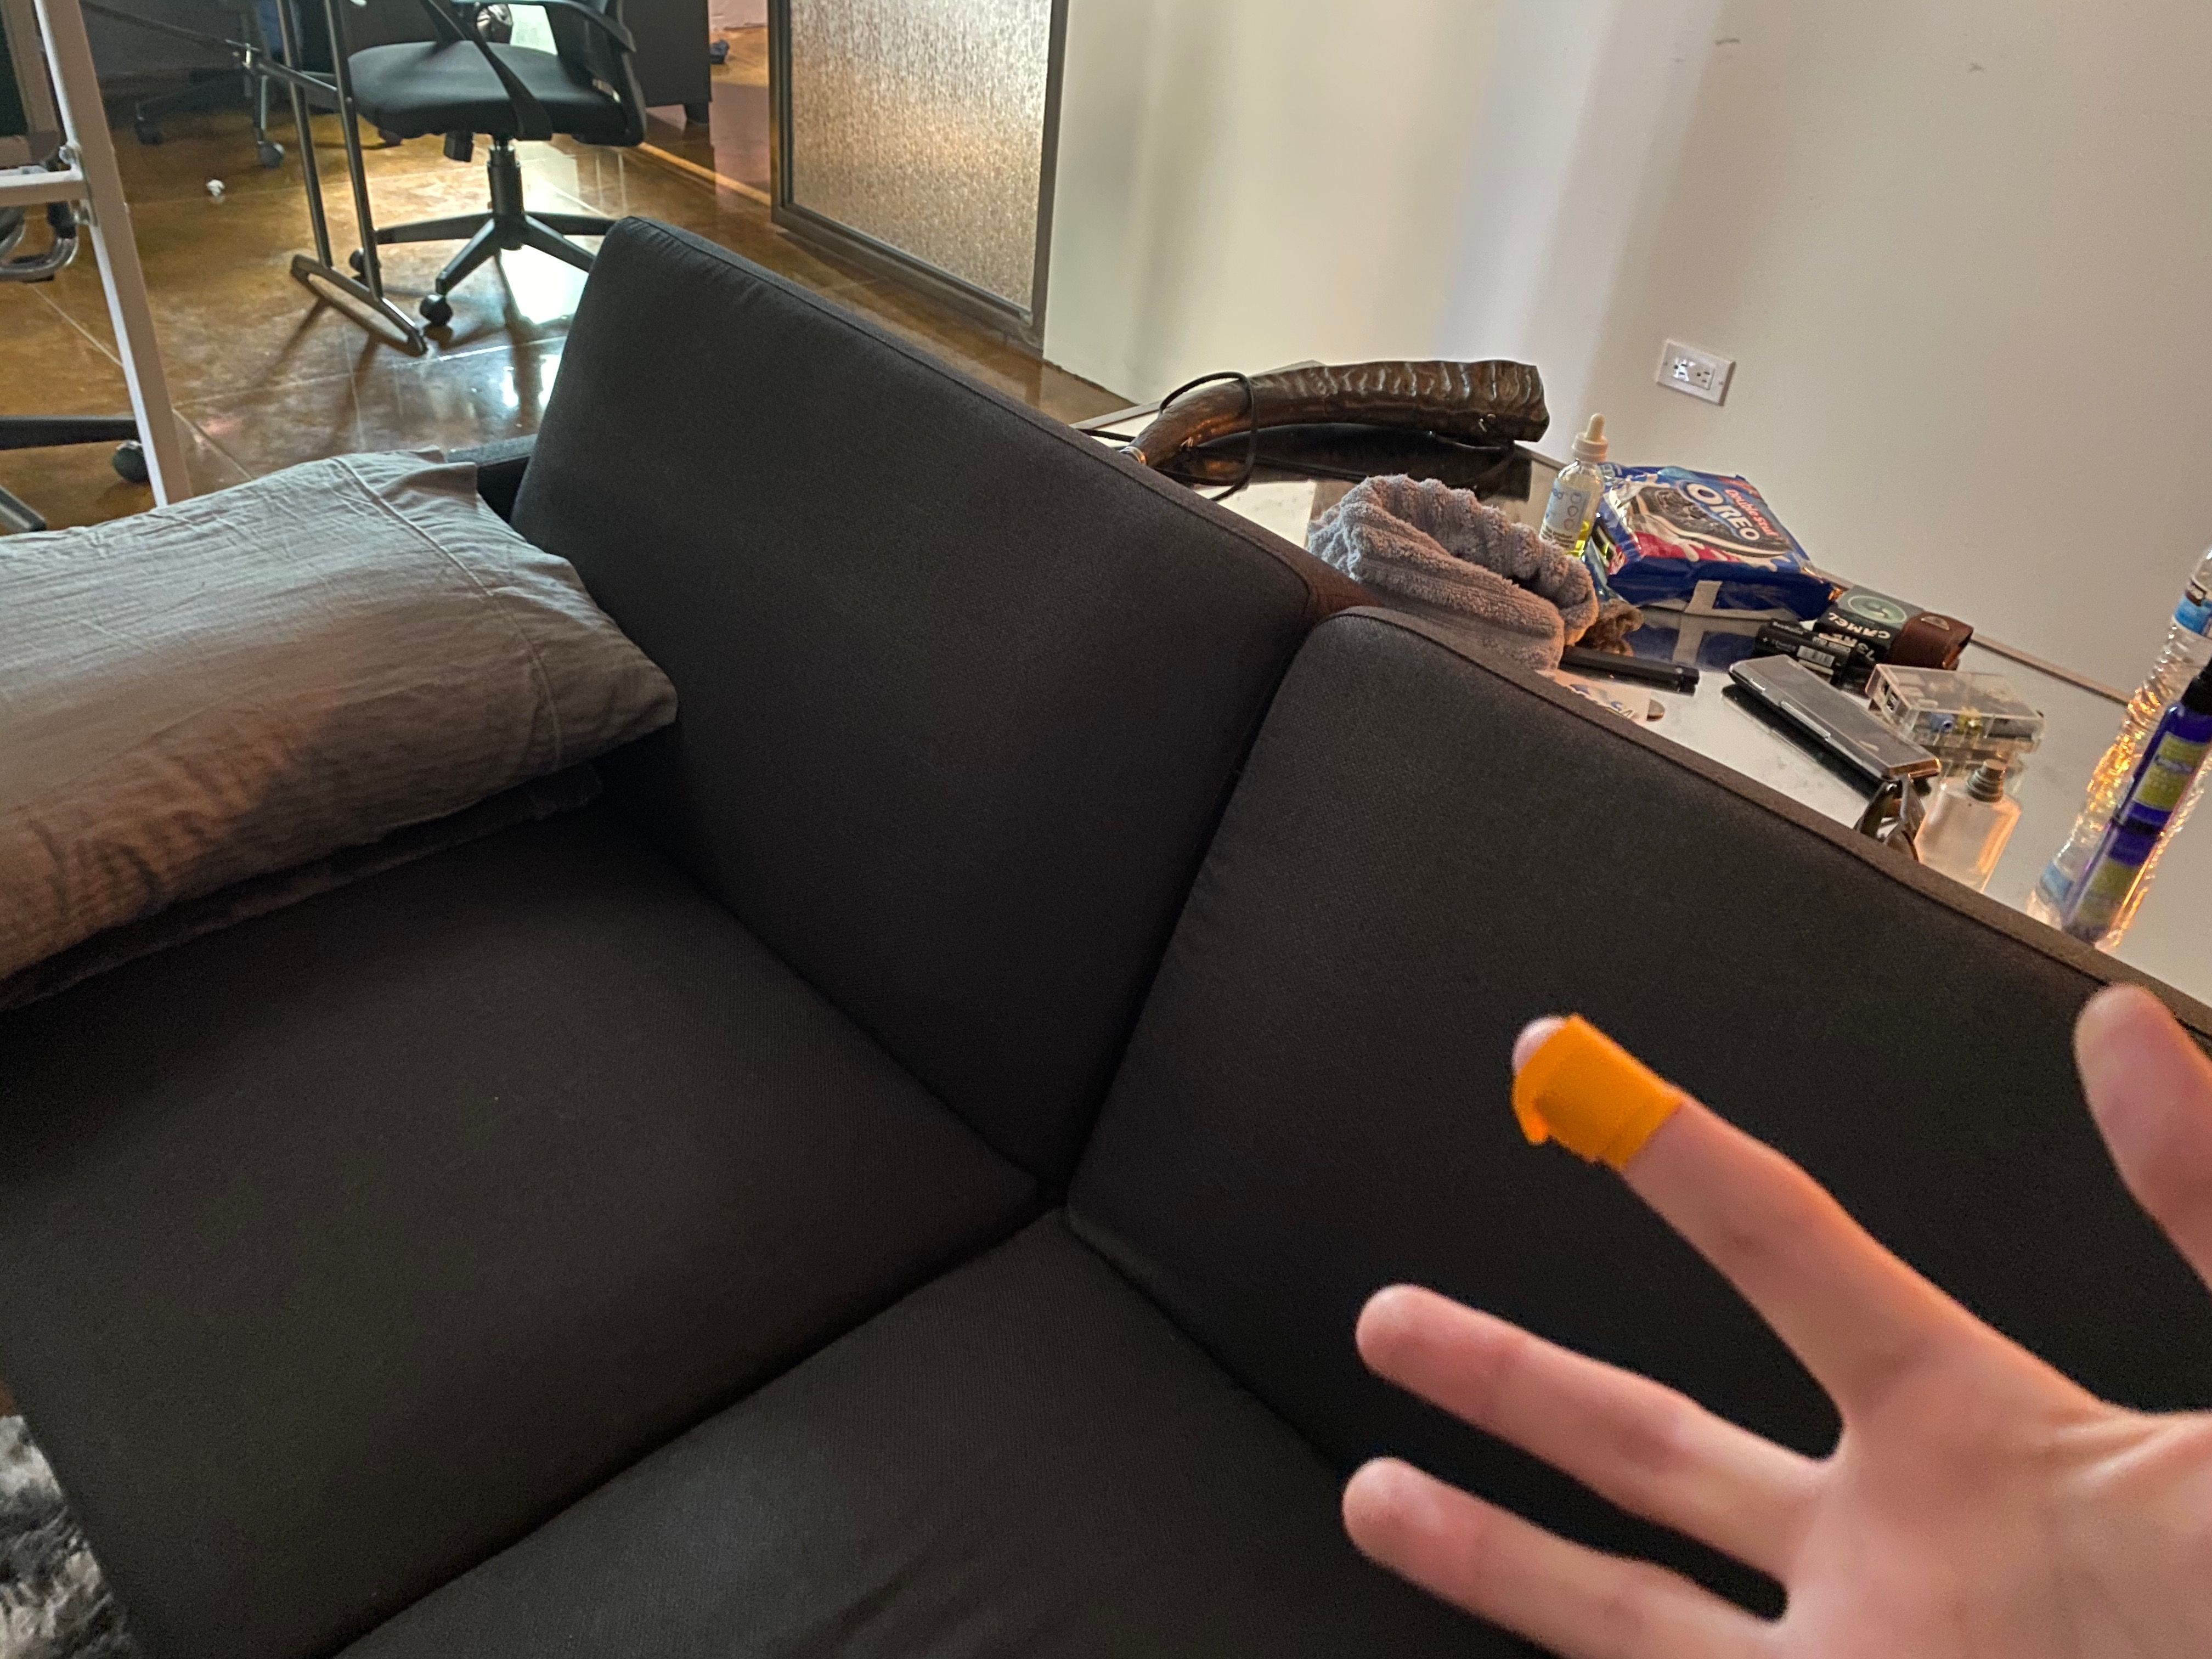fingertip: (1489, 999, 1709, 1218)
